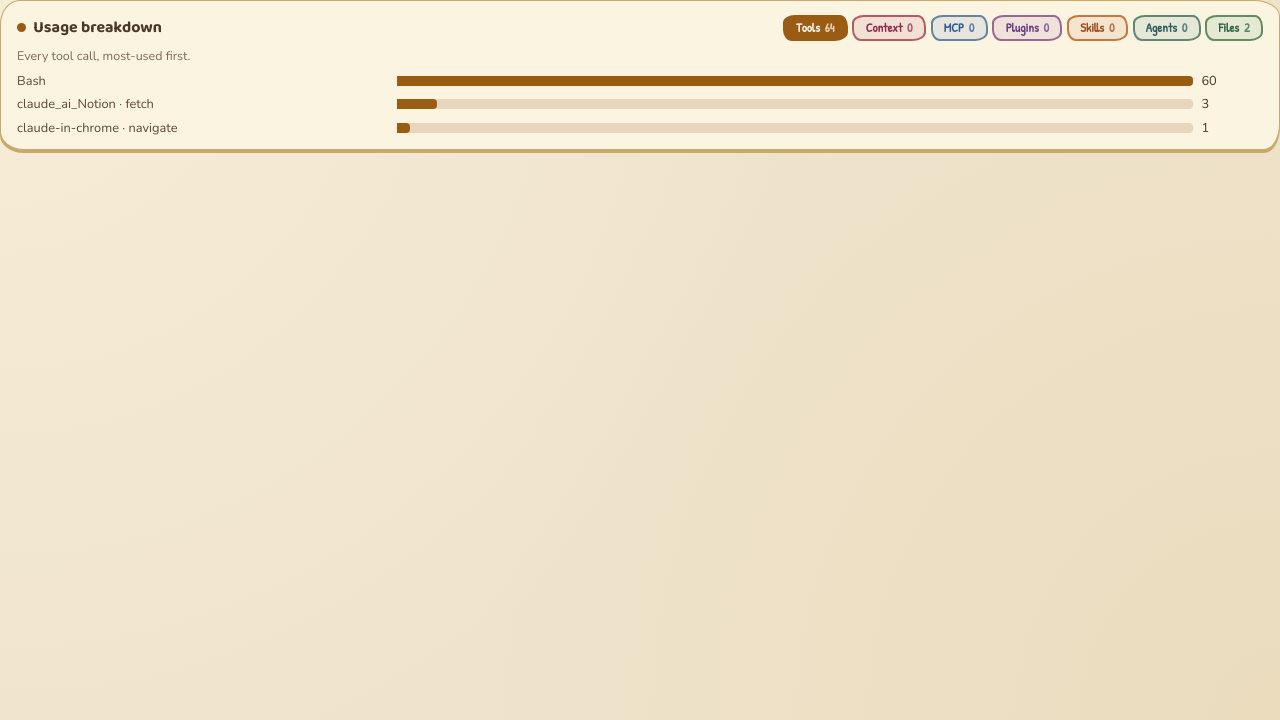
Test case: <UsageCallout/> › says churn is editing done, not what shipped
What coordinates should you click on to do the following:
click the button "Files 2"
I would click on:
 (1234, 28)
Its box is [1205, 15, 1263, 41].
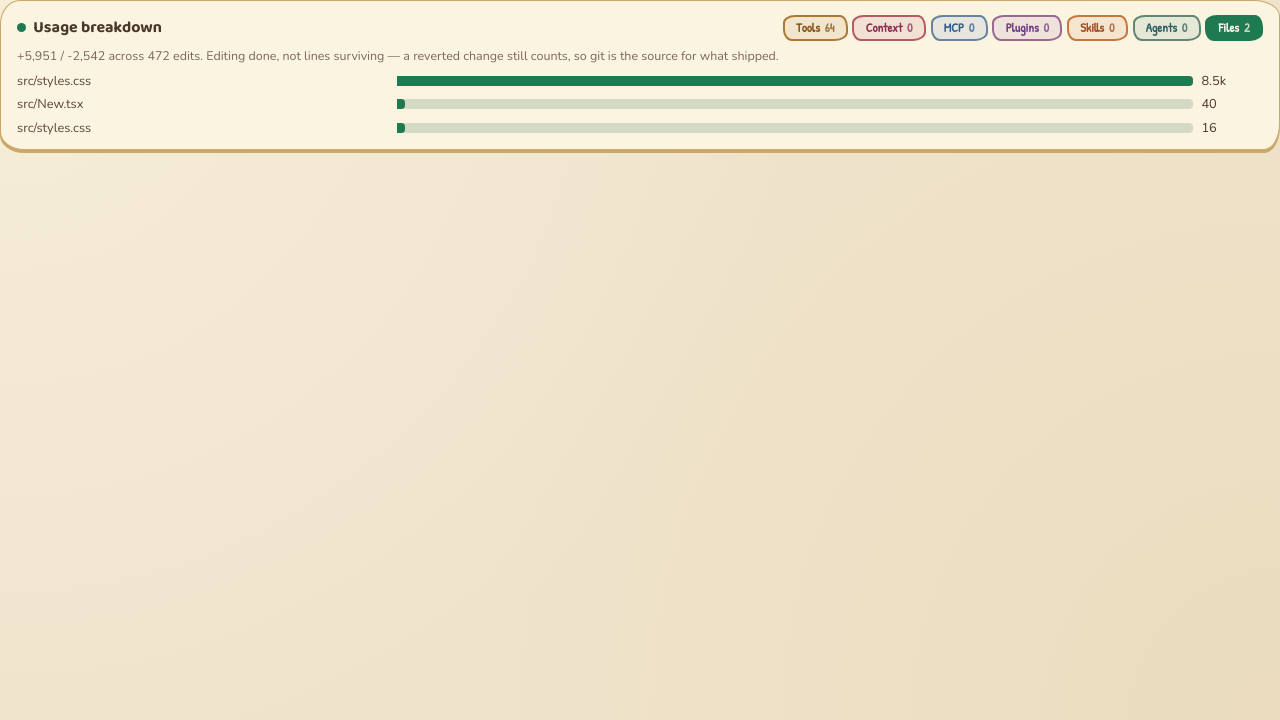
Check: the text "git is the source for what shipped" is shown, box [17, 47, 779, 64]
